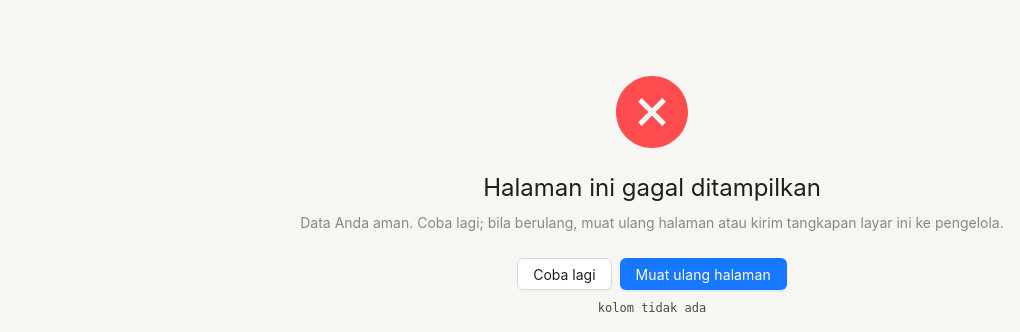
Test: ErrorBoundary › galat tampilan menjadi pesan ramah, bukan layar putih; "Coba lagi" menampilkan anak kembali
This screenshot has width=1020, height=332.
Expected: the text "Halaman ini gagal ditampilkan" is shown, [483,173,821,202]
Expected: the text "kolom tidak ada" is shown, [598,301,706,315]
Click the button "Coba lagi".
click(564, 274)  # box [517,258,612,290]
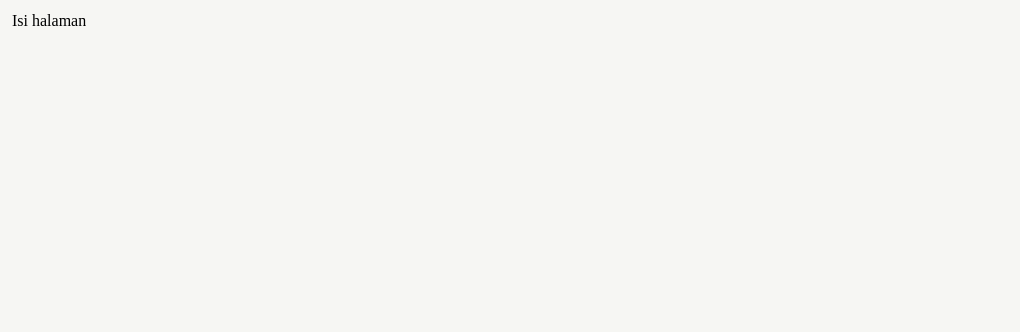
Result: the text "Isi halaman" is shown at [12,12,86,29]
